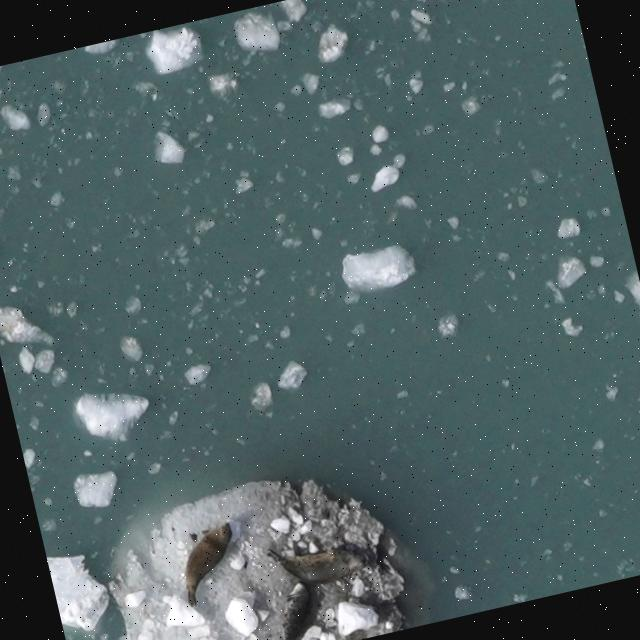seal: (262, 524, 384, 599), (167, 515, 254, 613), (261, 572, 331, 640)
